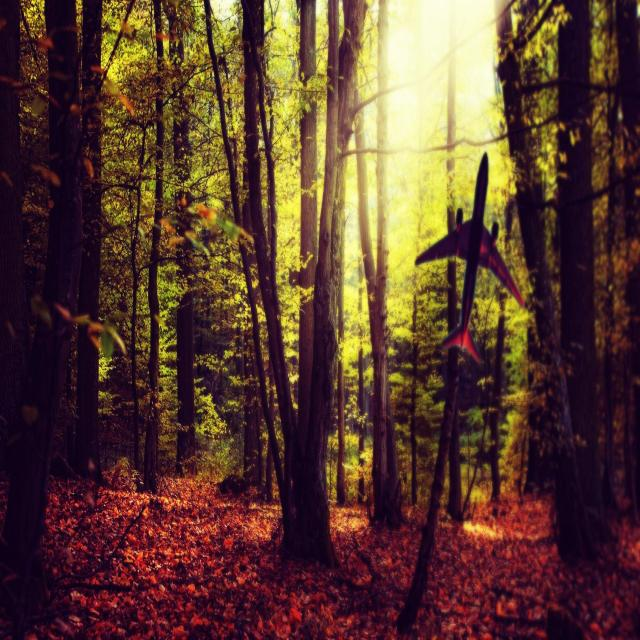airplane: (414, 150, 525, 364)
